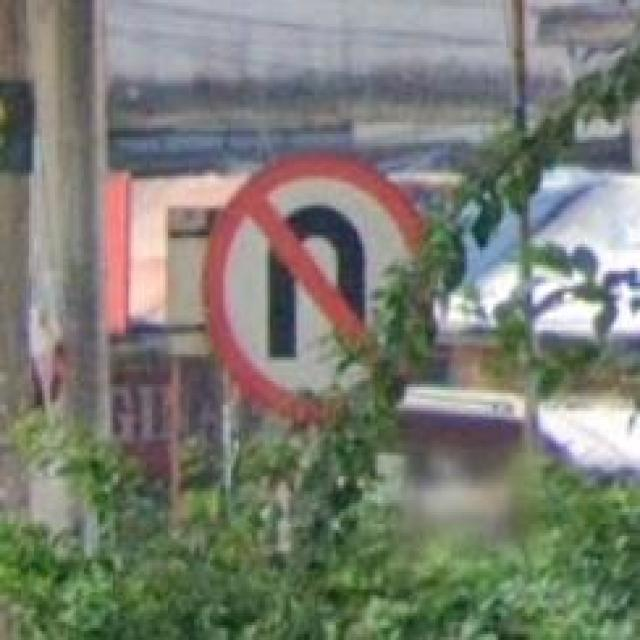traffic sign: (213, 161, 381, 366)
